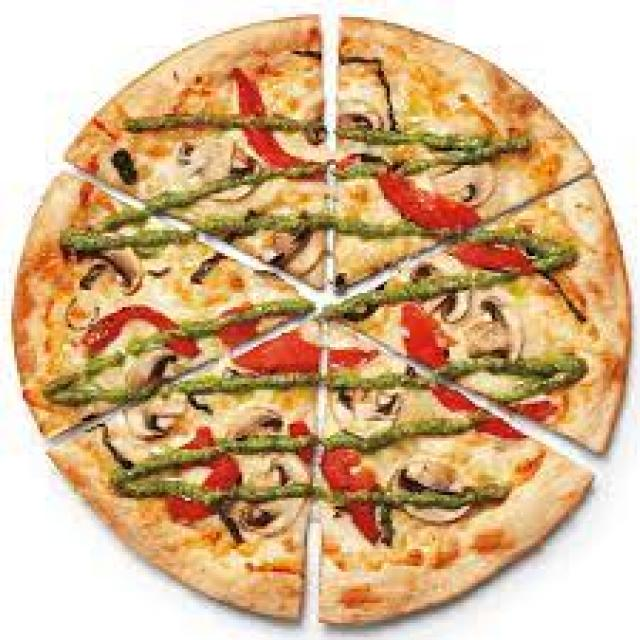피자: (11, 11, 634, 631)
